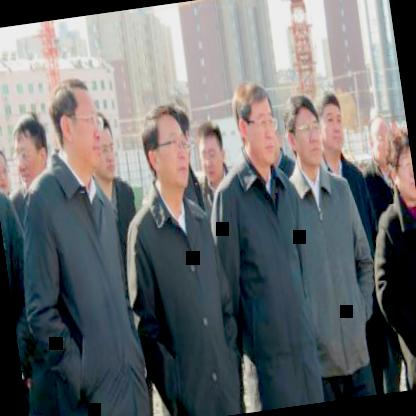head: (50, 77, 106, 172), (142, 102, 196, 198), (231, 76, 284, 172), (284, 86, 330, 174), (7, 108, 52, 184), (191, 112, 231, 190), (84, 105, 122, 186), (314, 87, 352, 156), (367, 107, 397, 177), (388, 129, 416, 203), (0, 142, 14, 198)
